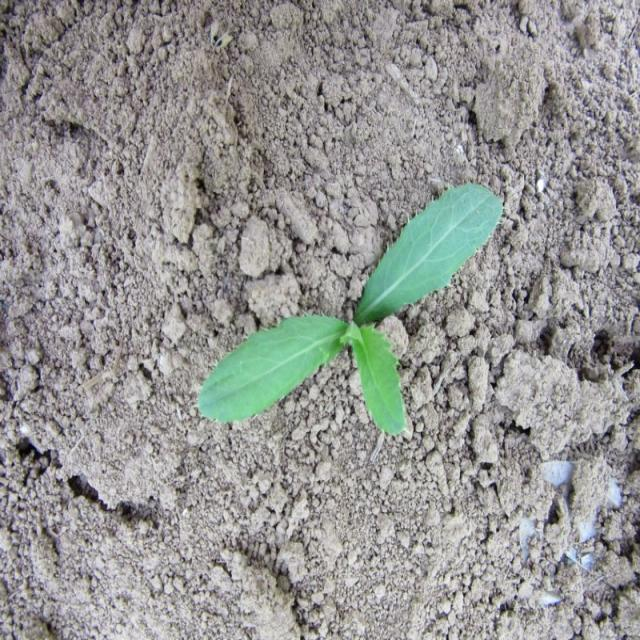field_thistle: (222, 180, 492, 450)
